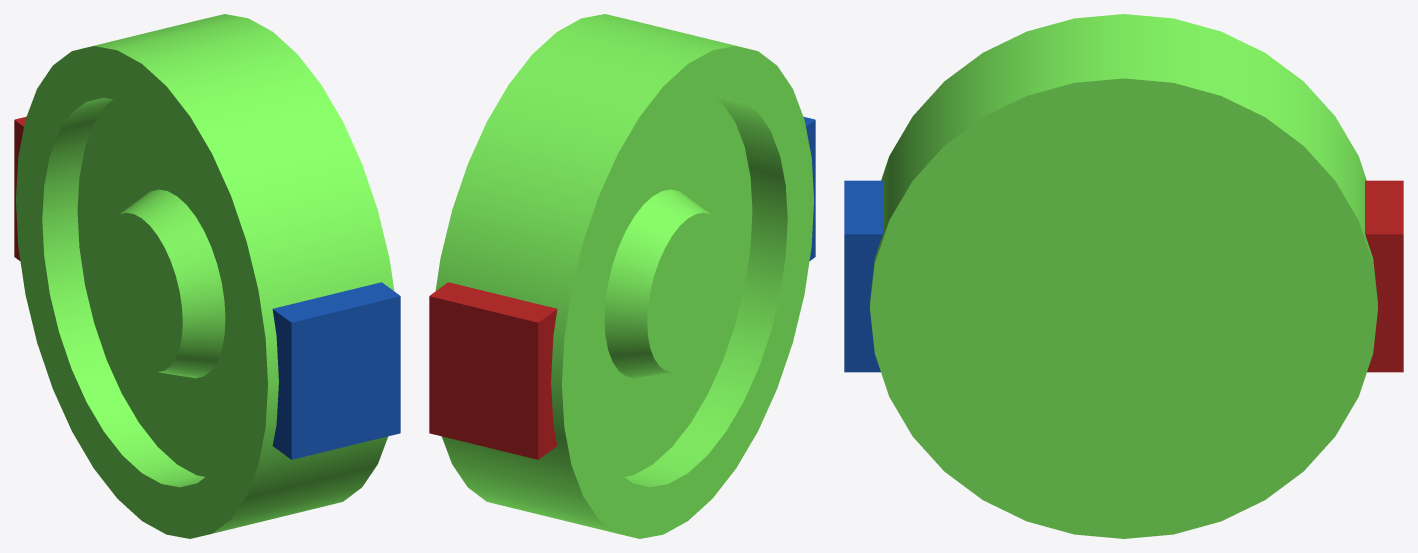
The model's file is Servo.obj.
The picture shows the model from 3 angles, left to right: view 1: azimuth 30°, elevation 25°; view 2: azimuth 150°, elevation 25°; view 3: azimuth 270°, elevation 25°; orthographic projection.
Parts seen in each view (by area): view 1: Handle, Forwards, Backwards; view 2: Handle, Backwards, Forwards; view 3: Handle, Backwards, Forwards.
Part boxes in pixels (x1,y1,x2,y2): Handle: (16,14,394,538); Forwards: (272,282,400,459); Backwards: (14,116,26,260); Handle: (435,14,813,538); Backwards: (429,282,557,459); Forwards: (803,116,815,260); Handle: (870,14,1377,538); Backwards: (1365,180,1403,372); Forwards: (844,180,882,372).
Bounding box in the file's own units: 0.3 × 1 × 1.1.
